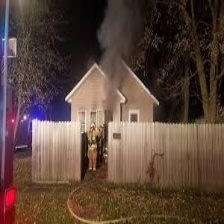smoke: (102, 2, 130, 103)
